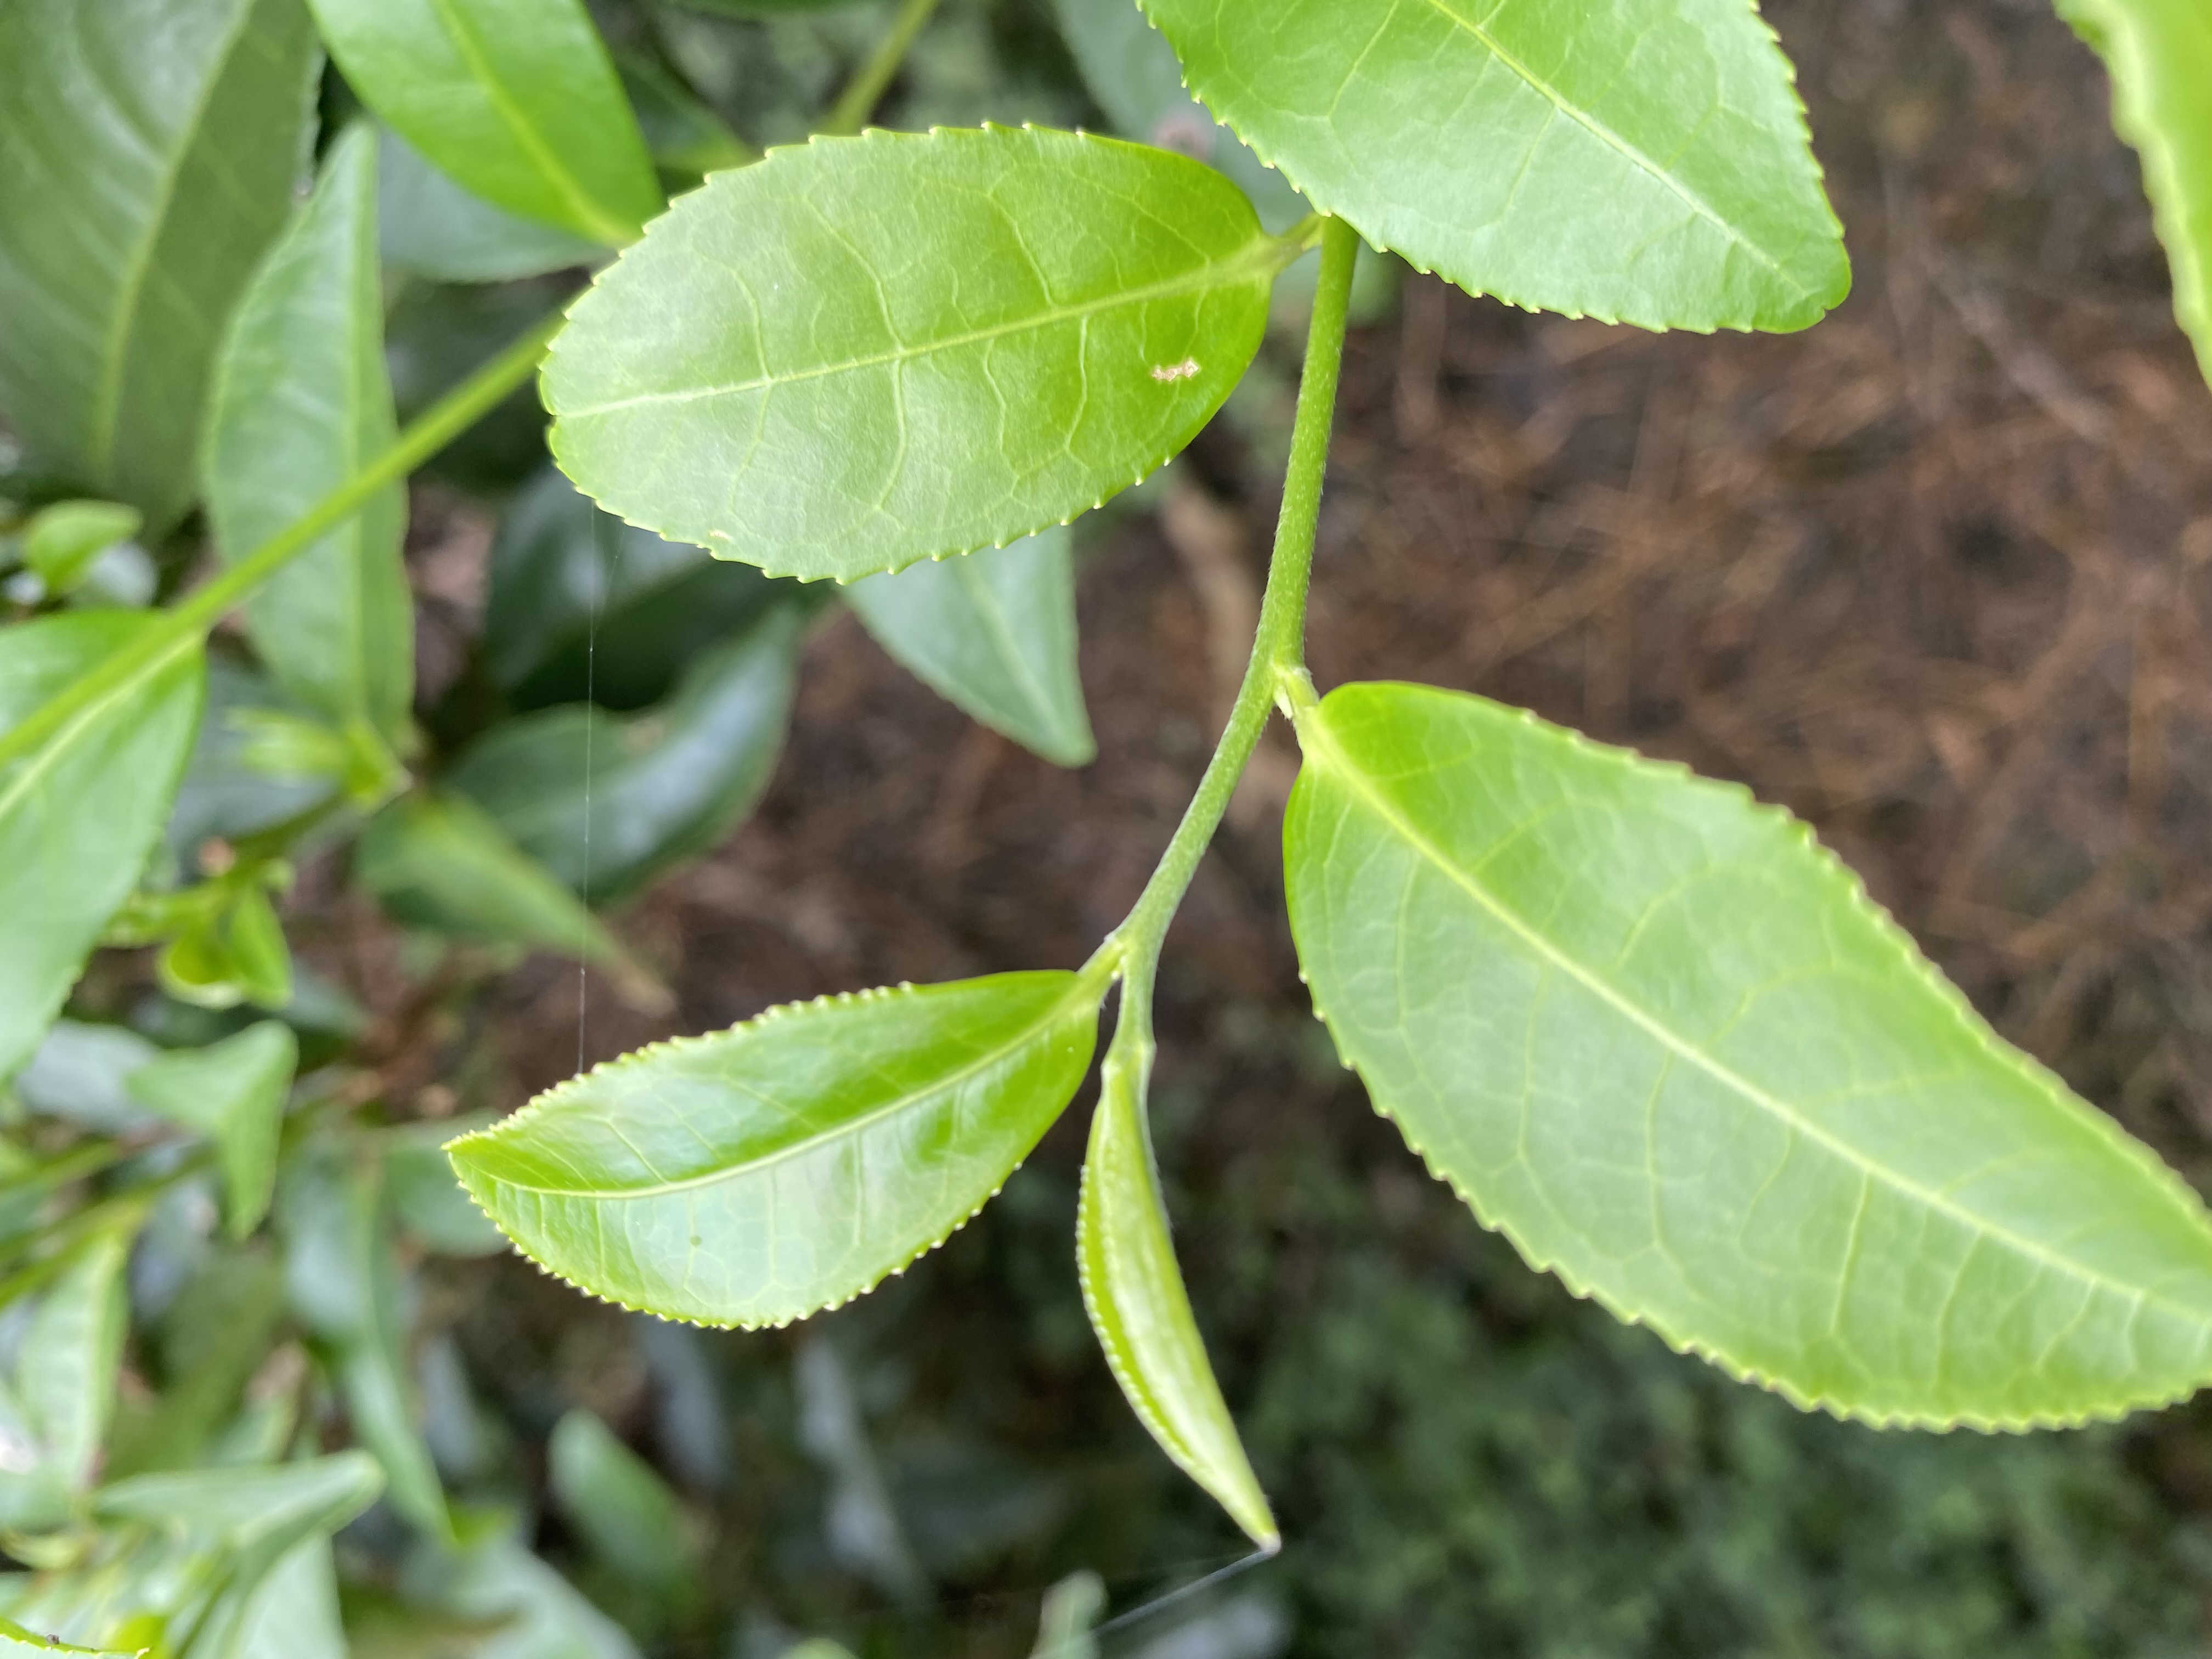healthy: (1275, 674, 2210, 1438), (441, 965, 1101, 1337), (1134, 3, 1853, 338)
tanju_low: (540, 122, 1277, 586)
